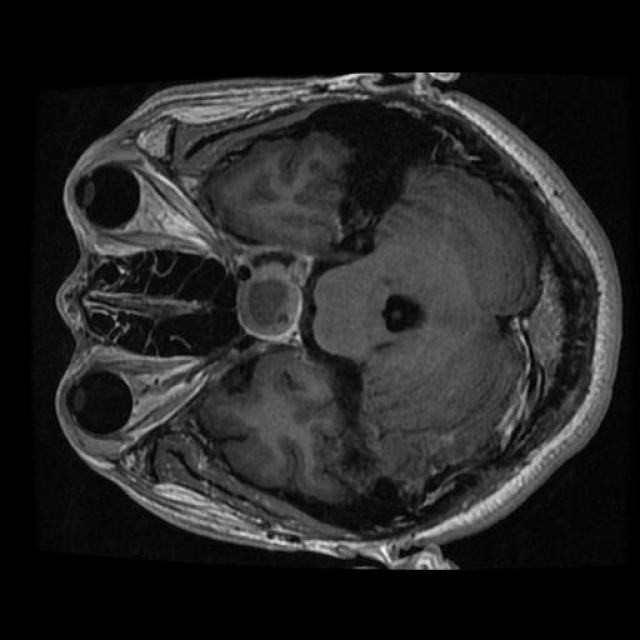Pituitary: (237, 263, 302, 340)
